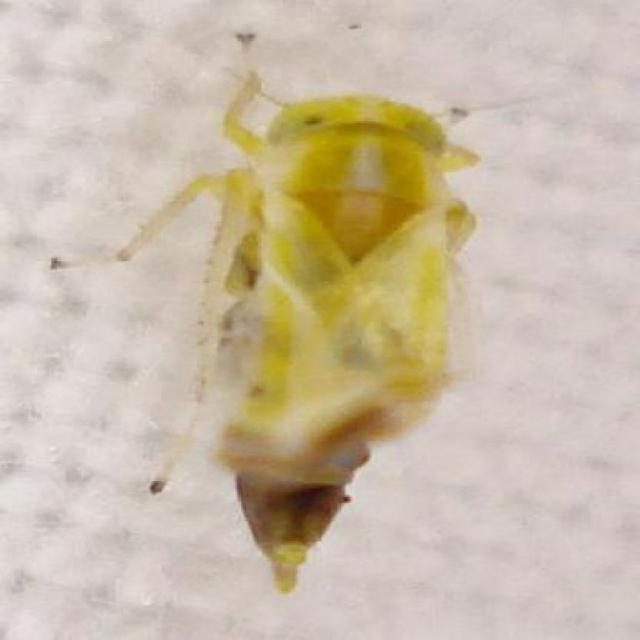green-leafhopper: (152, 75, 478, 591)
